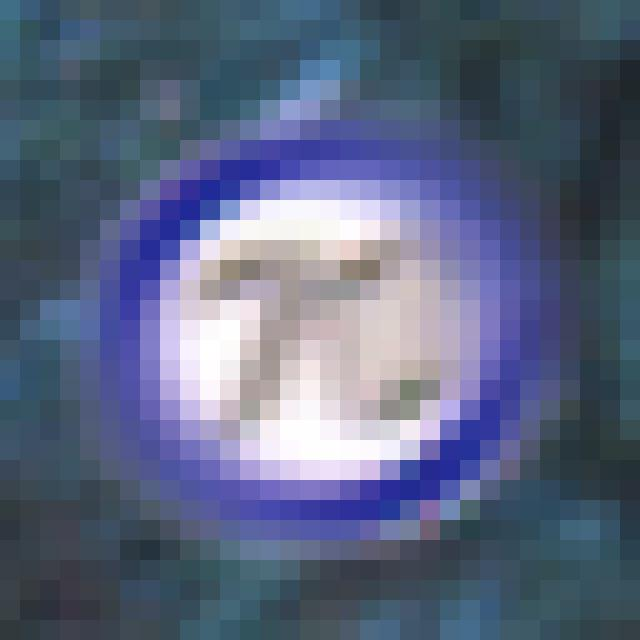SPEED LIMIT 70: (99, 148, 532, 546)
